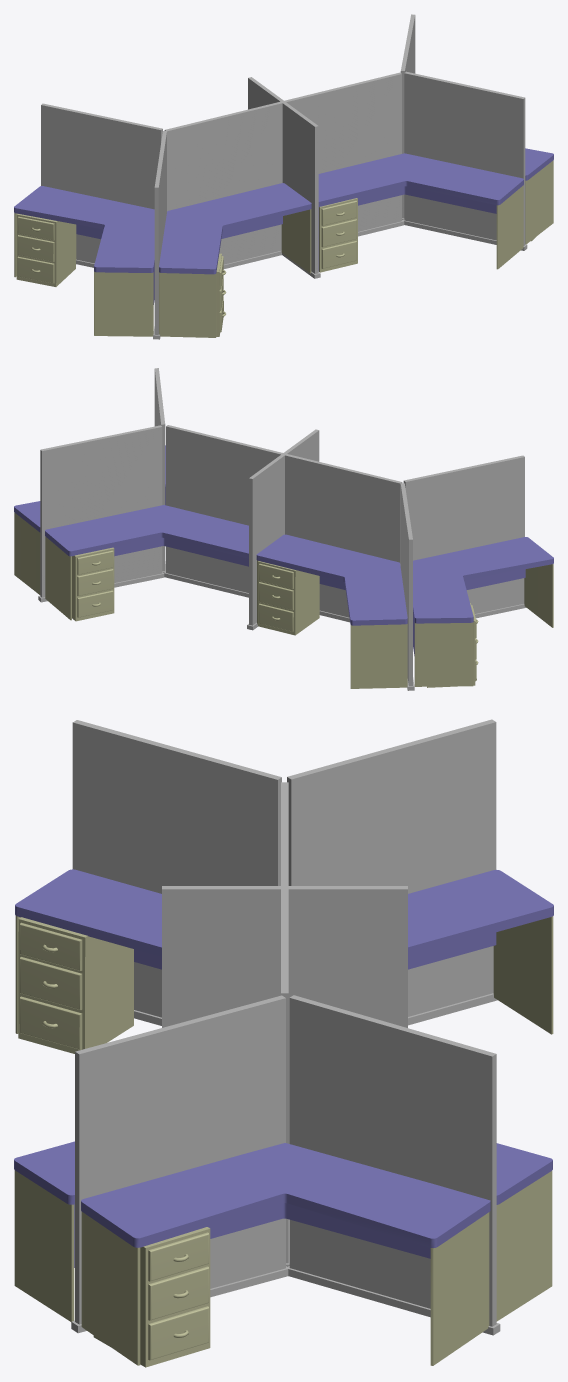
Rendered from Cubicles 1.fbx.
The picture shows the model from 3 angles, top to bottom: view 1: azimuth 30°, elevation 25°; view 2: azimuth 150°, elevation 25°; view 3: azimuth 270°, elevation 25°; orthographic projection. The views are drawn at different scales.
Parts seen in each view (by area): view 1: polySurface13.001; view 2: polySurface13.001; view 3: polySurface13.001.
Boxes of the visible parts, left/top/right/bottom form: polySurface13.001: left=14, top=14, right=553, bottom=339; polySurface13.001: left=14, top=368, right=553, bottom=690; polySurface13.001: left=14, top=719, right=553, bottom=1367.
Size of the model in its own units: 924 by 292 by 511.
